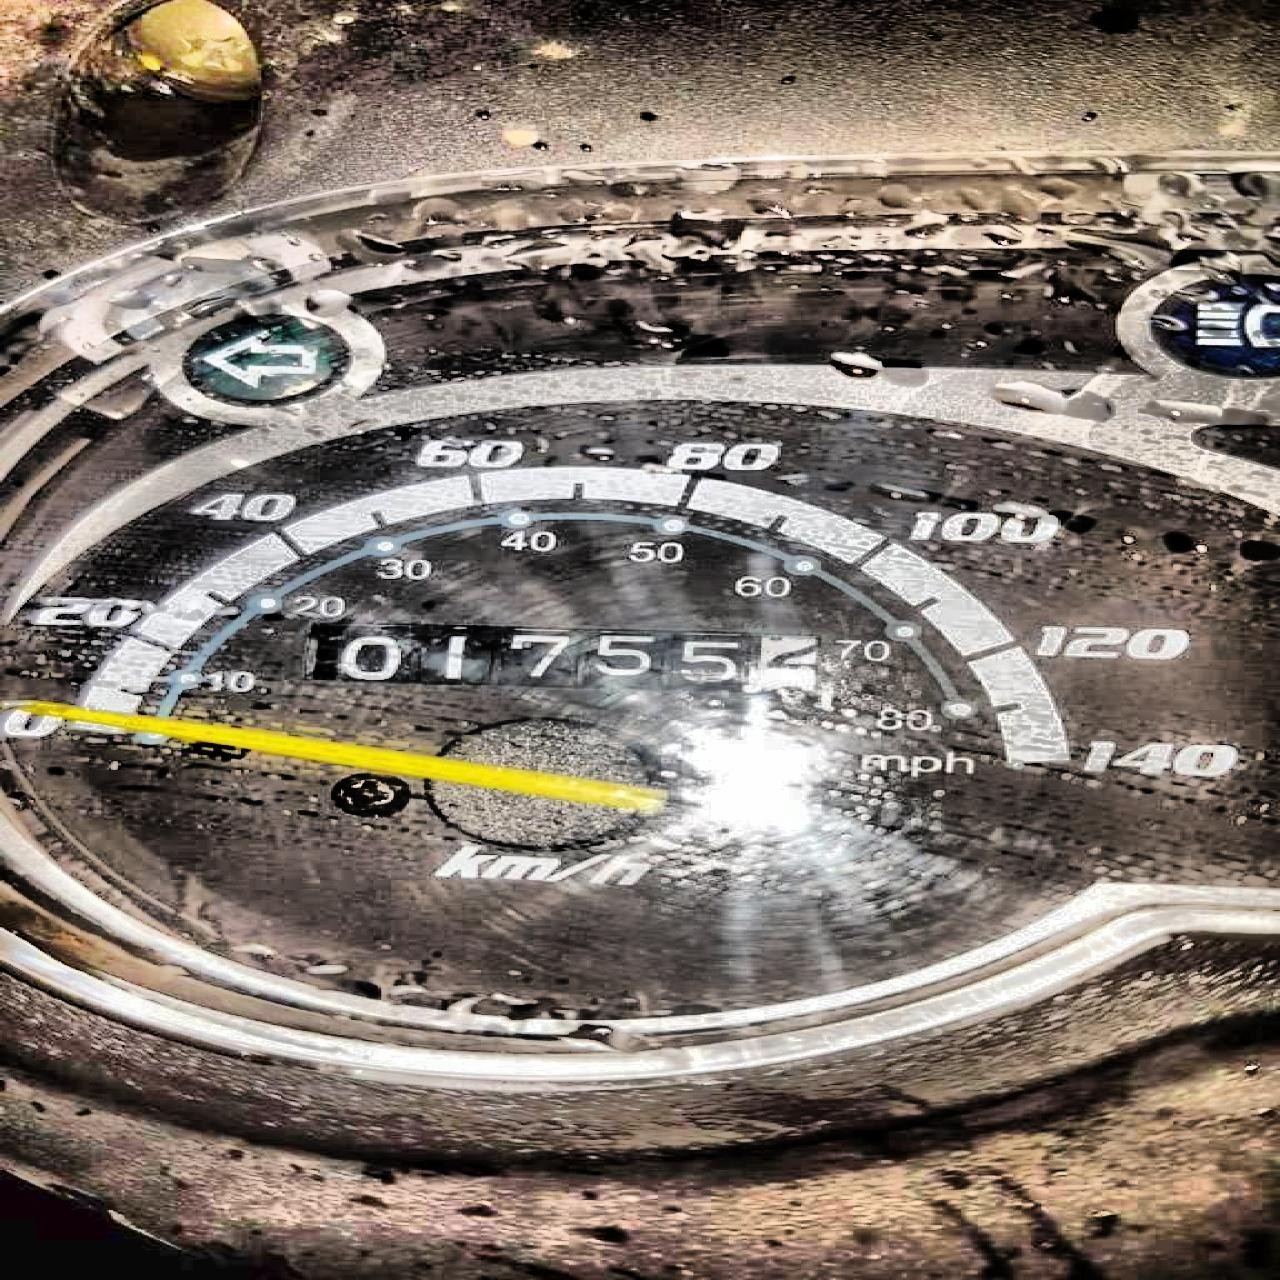0: (329, 632, 407, 682)
1: (436, 627, 477, 682)
2: (762, 629, 822, 674)
5: (673, 634, 740, 685), (588, 631, 653, 680)
7: (504, 633, 565, 686)
odometer: (305, 619, 824, 694)
